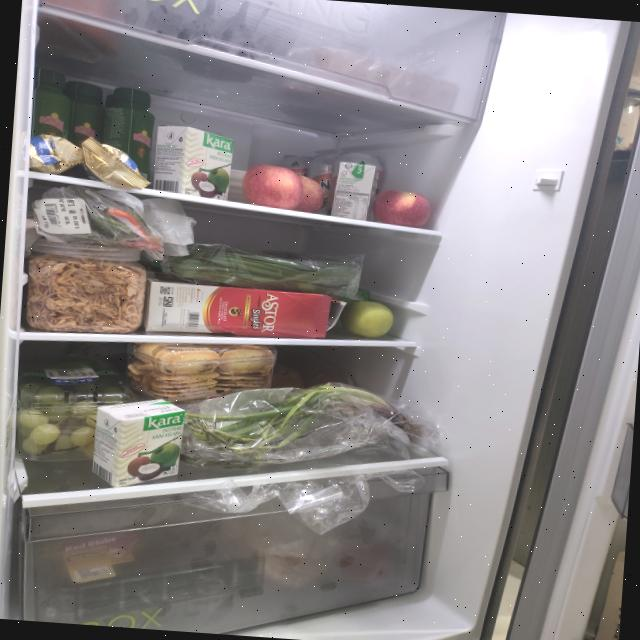apple: (240, 162, 326, 214), (371, 188, 432, 228)
chili: (86, 189, 168, 251)
coconut_milk: (90, 394, 186, 492), (152, 124, 235, 201), (330, 160, 380, 222)
grape: (14, 376, 128, 461)
leafy_greens: (168, 242, 362, 299)
spring_onion: (181, 372, 424, 482)
